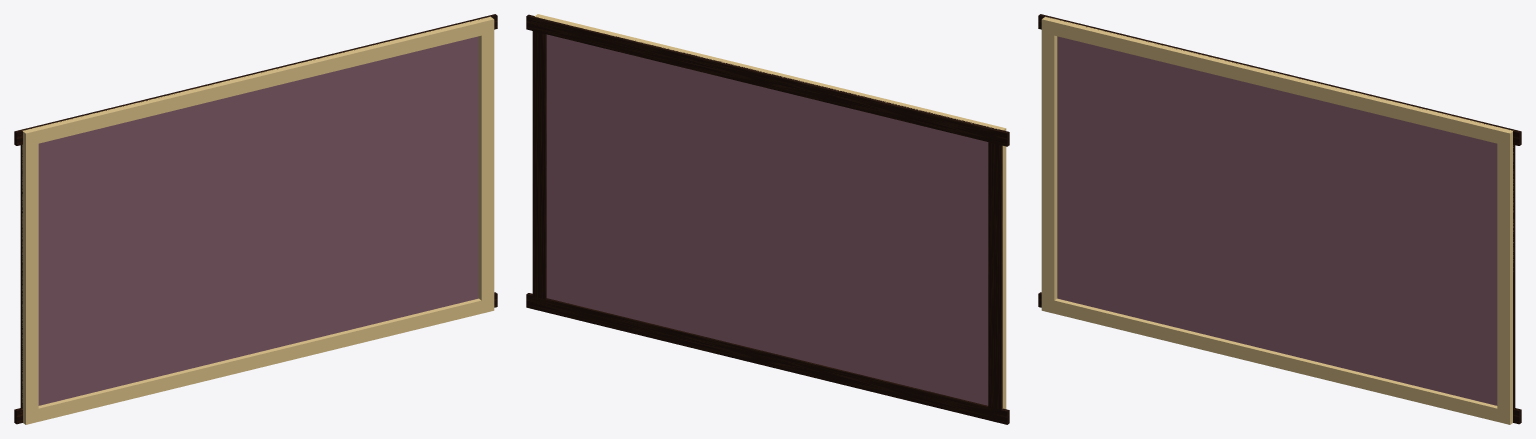
The model's file is mm_board.glb.
The picture shows the model from 3 angles, left to right: view 1: azimuth 30°, elevation 25°; view 2: azimuth 150°, elevation 25°; view 3: azimuth 330°, elevation 25°; orthographic projection.
Visible parts, largest first — view 1: plate, gold, wood_dark; view 2: plate, wood_dark, gold; view 3: plate, gold, wood_dark.
Part boxes in pixels (<box>): plate: <box>38,36,478,405</box>; gold: <box>22,16,494,424</box>; wood_dark: <box>14,14,497,424</box>; plate: <box>546,34,988,405</box>; wood_dark: <box>526,14,1009,424</box>; gold: <box>534,14,1006,408</box>; plate: <box>1057,36,1497,405</box>; gold: <box>1041,16,1513,424</box>; wood_dark: <box>1038,14,1521,424</box>.
Bounding box in the file's own units: 7.6 × 4.4 × 0.14.
Materials: 3 (1 with a texture image).
